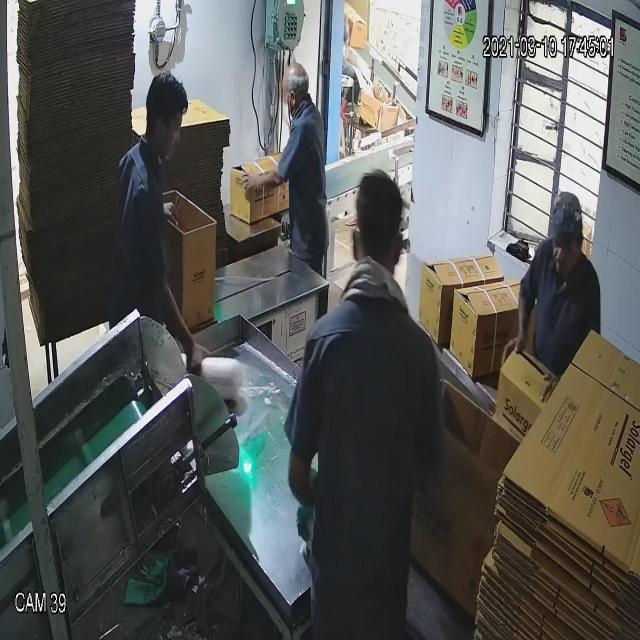No_Gloves: (42, 54, 517, 324)
